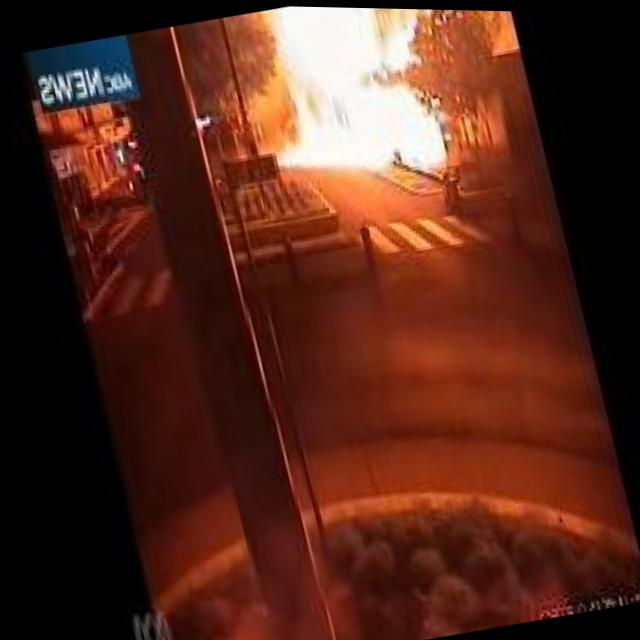fire: (239, 4, 491, 189)
